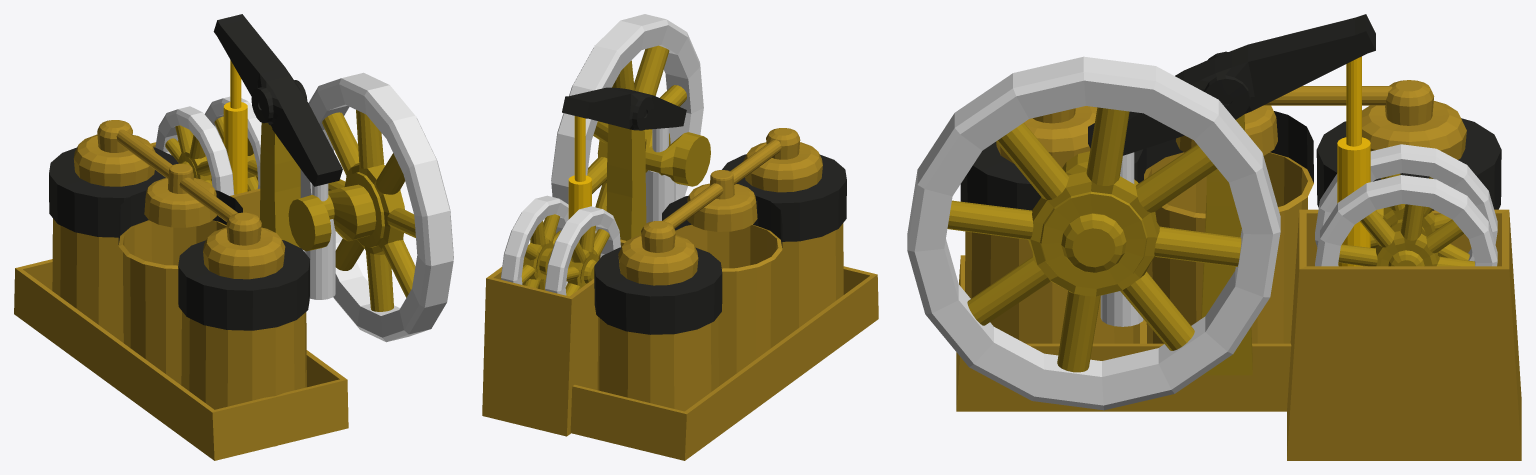
The model's file is ANIMACIY12.fbx.
3 views of the same model, side by side, from view 1: azimuth 30°, elevation 25°; view 2: azimuth 150°, elevation 25°; view 3: azimuth 270°, elevation 25° (orthographic). The views are drawn at different scales.
Parts seen in each view (by area): view 1: Circle.006, Circle.024, Circle.004, Circle.003, Circle.002, Circle.001, Circle.005, Cylinder, Cylinder.003; view 2: Circle.024, Circle.003, Circle.006, Circle.004, Circle.002, Circle.005, Circle.001, Cylinder.003, Cylinder; view 3: Circle.006, Circle.024, Circle.005, Circle.002, Circle.004, Circle.001, Circle.003, Cylinder, Cylinder.003.
Part boxes in pixels (x1,y1,x2,y2): Circle.006: (288,72,453,342); Circle.024: (14,123,348,460); Circle.004: (178,212,309,446); Circle.003: (49,120,178,342); Circle.002: (118,163,242,384); Circle.001: (213,14,342,186); Circle.005: (155,96,261,195); Cylinder: (223,60,247,194); Cylinder.003: (304,183,335,299); Circle.024: (482,124,878,460); Circle.003: (594,221,722,411); Circle.006: (551,14,710,233); Circle.004: (722,128,846,342); Circle.002: (662,170,782,385); Circle.005: (501,195,620,296); Circle.001: (562,87,686,130); Cylinder.003: (645,128,675,223); Cylinder: (568,116,591,241); Circle.006: (907,56,1280,410); Circle.024: (956,86,1521,460); Circle.005: (1315,144,1497,266); Circle.002: (1144,105,1313,343); Circle.004: (960,106,1144,343); Circle.001: (1088,14,1375,155); Circle.003: (1316,80,1501,210); Cylinder: (1337,56,1370,266); Cylinder.003: (1100,152,1143,326).
Bounding box in the file's own units: 103 × 128 × 172.
